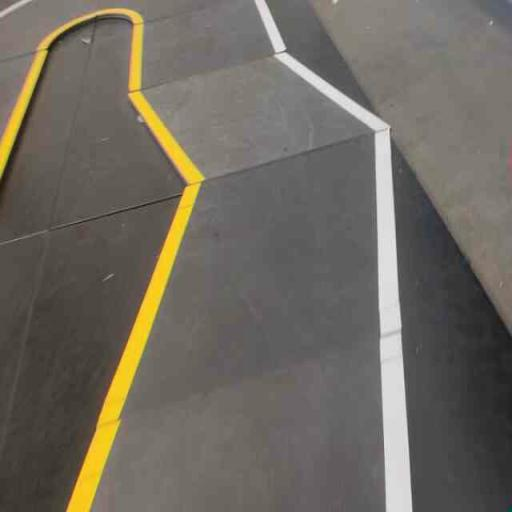crossleft: (58, 122, 415, 511)
